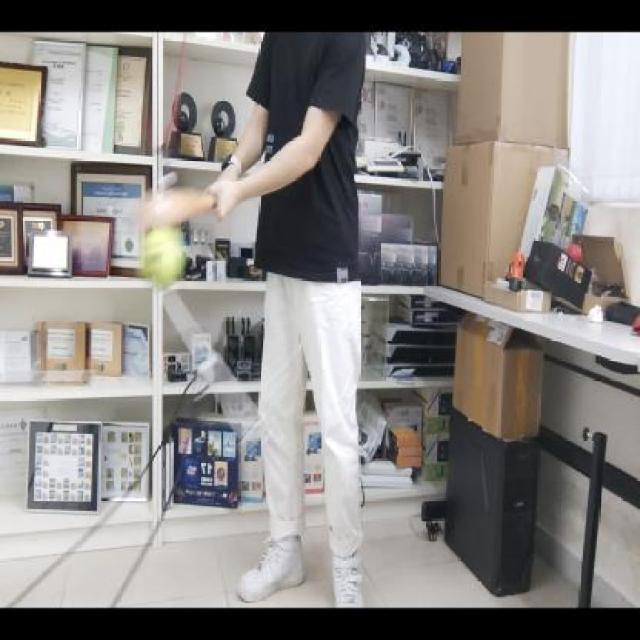baseball: (141, 229, 185, 294)
